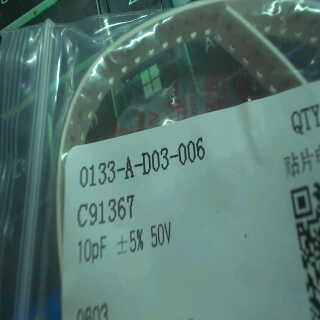10pF: (71, 232, 110, 267)
